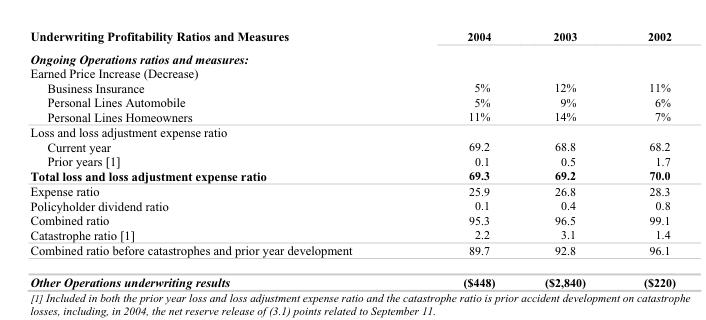table: (29, 28, 675, 289)
table column: (29, 28, 407, 289), (407, 28, 519, 289), (519, 28, 614, 289), (614, 28, 675, 289)
table column header: (29, 28, 675, 47)
table projected row header: (29, 47, 675, 65), (29, 65, 675, 80), (29, 124, 675, 139)
table row: (29, 242, 675, 266), (29, 266, 675, 289), (29, 28, 675, 47), (29, 47, 675, 65), (29, 65, 675, 80), (29, 94, 675, 109), (29, 109, 675, 124), (29, 124, 675, 139), (29, 153, 675, 168), (29, 168, 675, 183), (29, 183, 675, 198), (29, 212, 675, 227), (29, 227, 675, 242), (29, 80, 675, 94), (29, 139, 675, 153), (29, 198, 675, 212)
